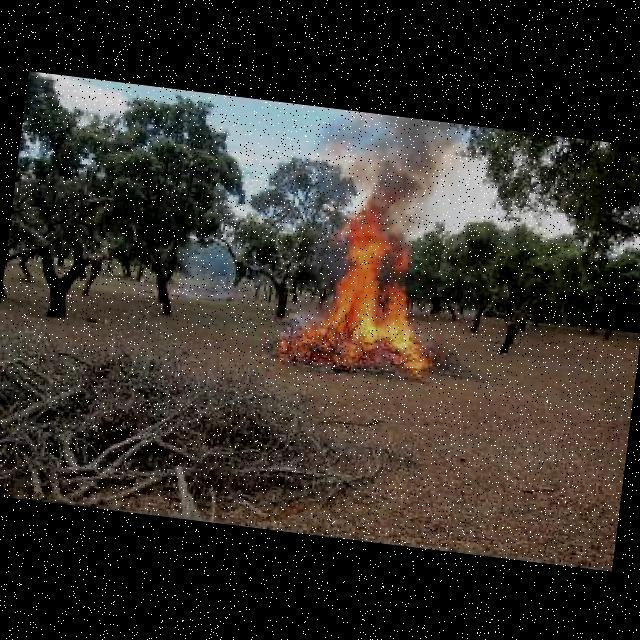Fire: (277, 203, 445, 374)
Smoke: (336, 108, 456, 240)
